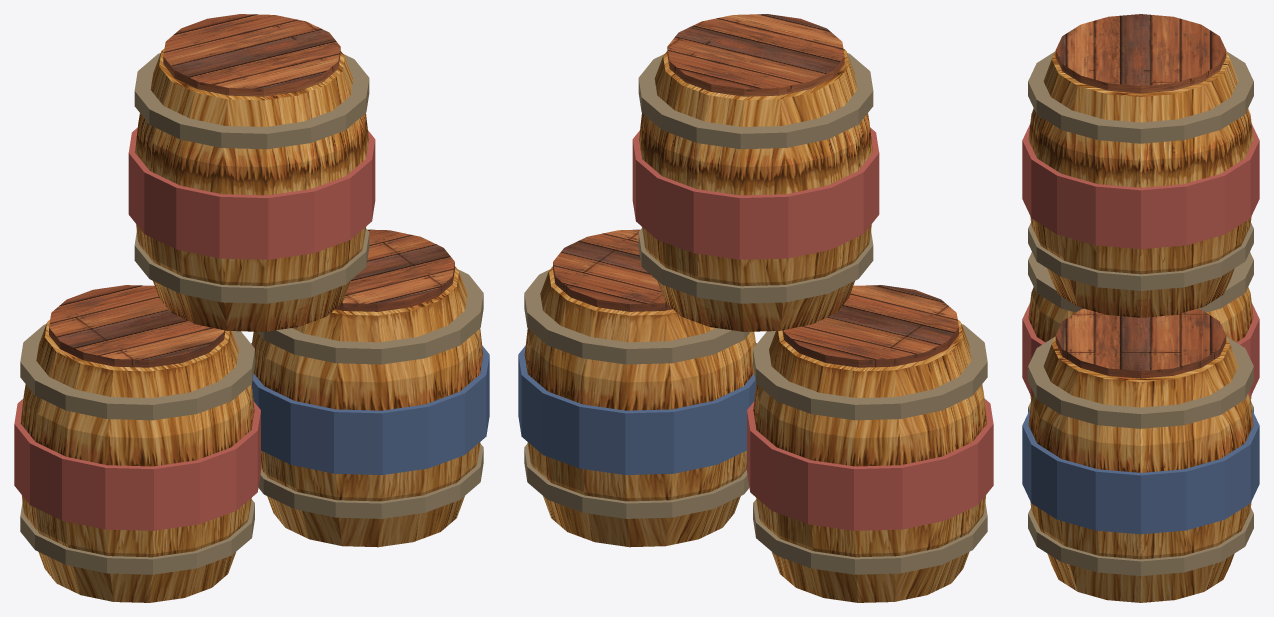
Rendered from edo_sake_barrels.glb.
3 renders of one model, left to right at view 1: azimuth 30°, elevation 25°; view 2: azimuth 150°, elevation 25°; view 3: azimuth 270°, elevation 25°, orthographic. The views are drawn at different scales.
Visible parts, largest first — view 1: sake_casks, sake_band_red, sake_ropes, sake_lids, sake_band_indigo; view 2: sake_casks, sake_band_red, sake_ropes, sake_lids, sake_band_indigo; view 3: sake_casks, sake_ropes, sake_lids, sake_band_red, sake_band_indigo.
Part boxes in pixels (x1,y1,x2,y2): sake_casks: (20, 48, 483, 602); sake_band_red: (14, 128, 375, 530); sake_ropes: (20, 53, 483, 574); sake_lids: (49, 14, 454, 367); sake_band_indigo: (251, 343, 489, 474); sake_casks: (524, 48, 987, 602); sake_band_red: (632, 128, 993, 530); sake_ropes: (524, 53, 987, 574); sake_lids: (553, 14, 958, 367); sake_band_indigo: (518, 343, 756, 474); sake_casks: (1028, 51, 1253, 602); sake_ropes: (1028, 51, 1253, 575); sake_lids: (1055, 14, 1226, 378); sake_band_red: (1022, 124, 1259, 396); sake_band_indigo: (1022, 409, 1259, 534).
Size of the model in its own units: 1.2 by 1.26 by 0.584.
Materials: 5 (2 with a texture image).
